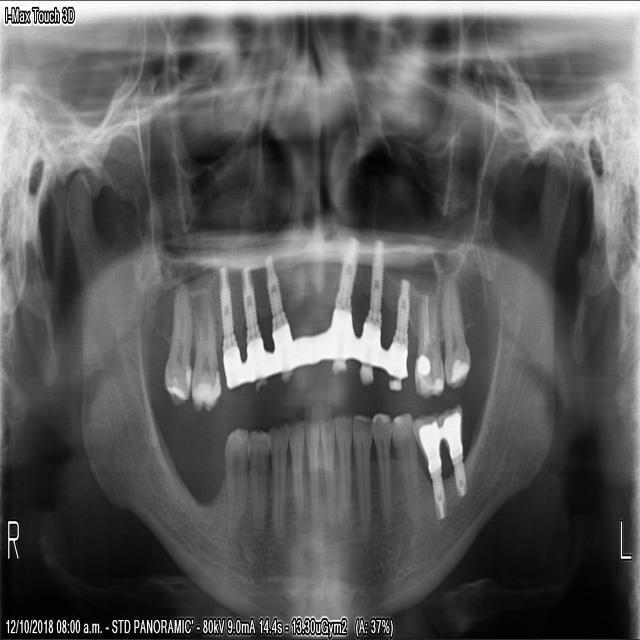LCD: (353, 413, 373, 528)
LCU: (326, 238, 361, 380)
LID: (333, 412, 352, 514), (321, 415, 336, 520)
LMD: (392, 404, 421, 529), (415, 413, 448, 518), (439, 403, 468, 499)
LMU: (438, 269, 473, 393), (411, 282, 446, 399)
LPMD: (371, 415, 392, 524)
LPMU: (358, 239, 383, 389), (386, 278, 411, 402)
RCD: (270, 420, 288, 535)
RCU: (266, 259, 295, 377)
RID: (288, 415, 305, 518), (305, 419, 319, 519)
RMU: (189, 292, 223, 412), (162, 280, 192, 408)
RPMD: (224, 420, 247, 533), (247, 423, 269, 532)
RPMU: (238, 264, 268, 398), (217, 263, 246, 398)
